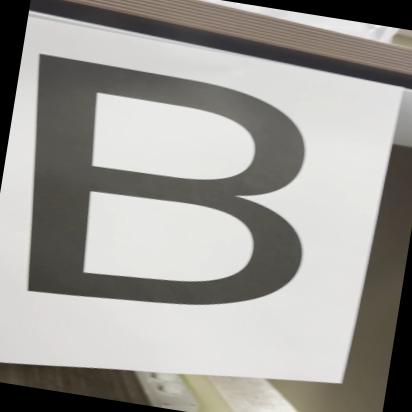seat: (0, 38, 359, 341)
